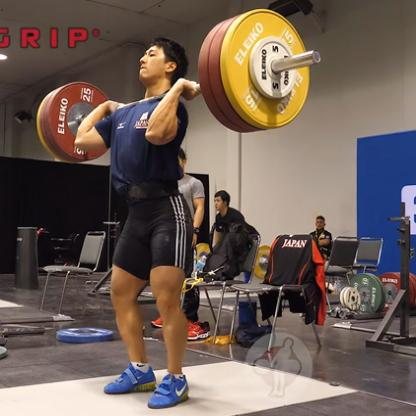Barbell: (192, 6, 322, 138)
